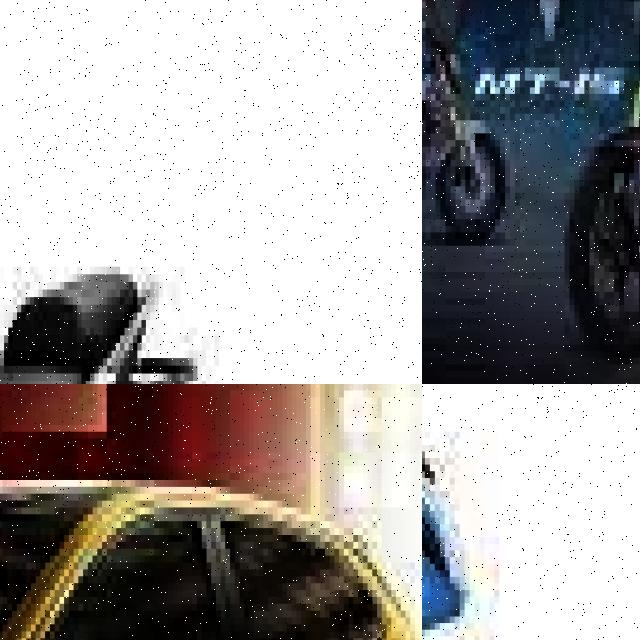bike: (0, 0, 232, 384), (422, 384, 640, 640), (559, 0, 640, 351), (422, 0, 510, 239)
car: (0, 404, 422, 640)
